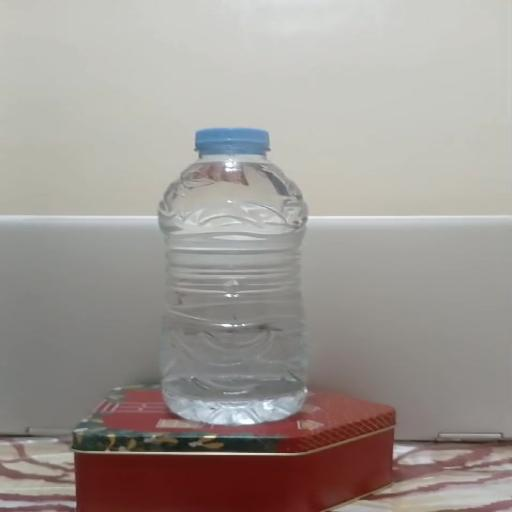bouteille non conformite: (134, 114, 365, 416), (64, 197, 377, 331)
